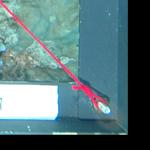alive: (10, 4, 125, 132)
